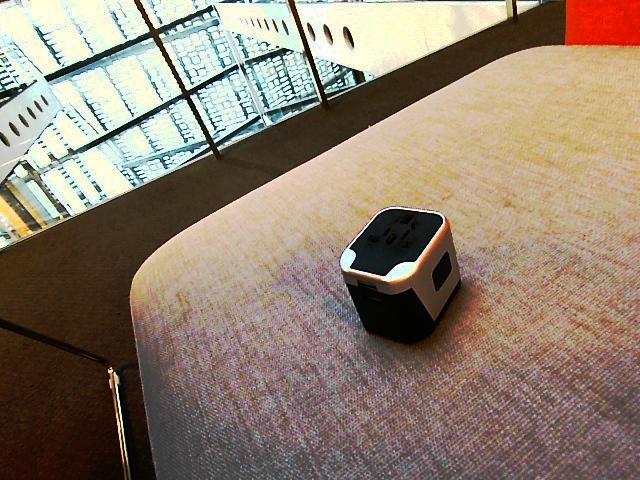adapter: (338, 204, 462, 344)
